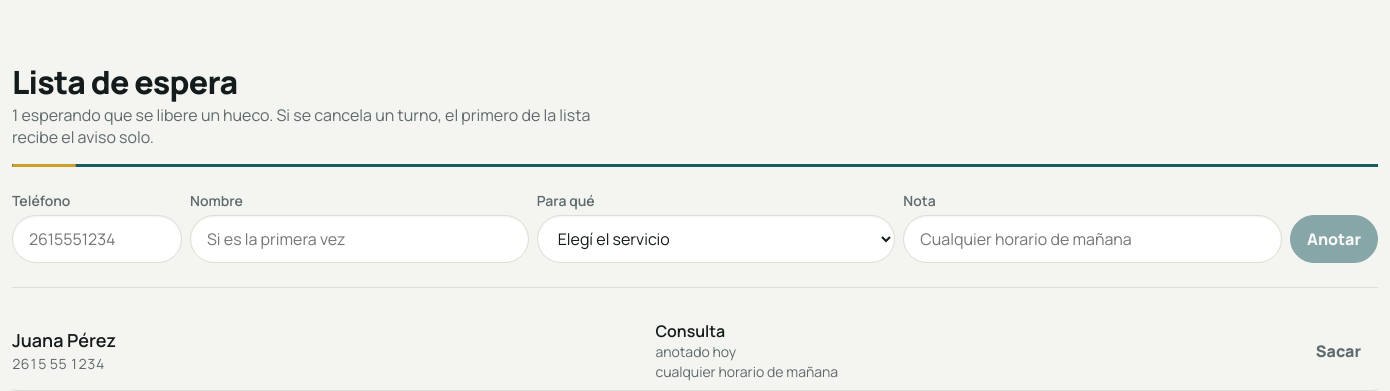
Test: lista de espera › si el borrado falla, la persona vuelve a la lista y se explica
(page scrolled)
Click the button "Sacar" at (1338, 351), box 1299,327 -> 1378,375
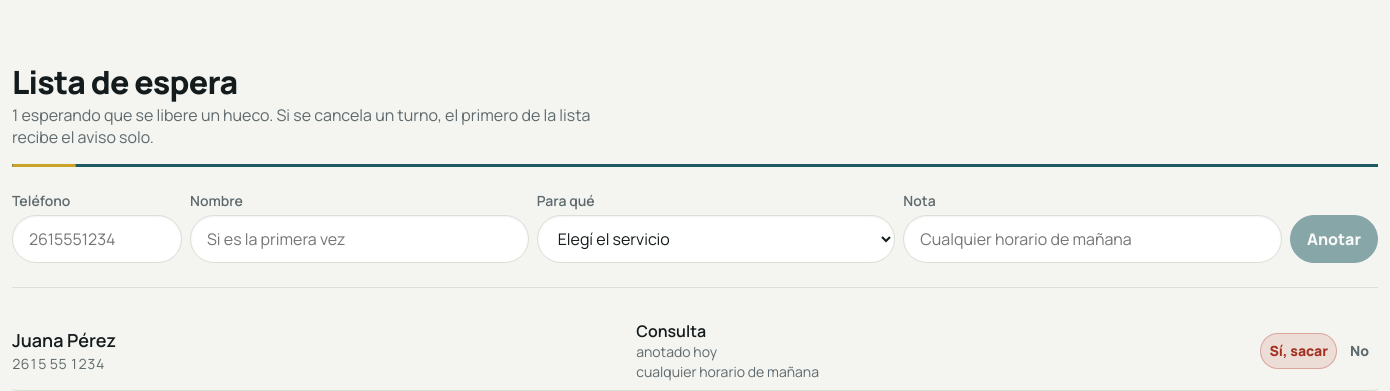
Click the button "Sí, sacar" at (1299, 351), box 1260,333 -> 1337,369
(page scrolled)
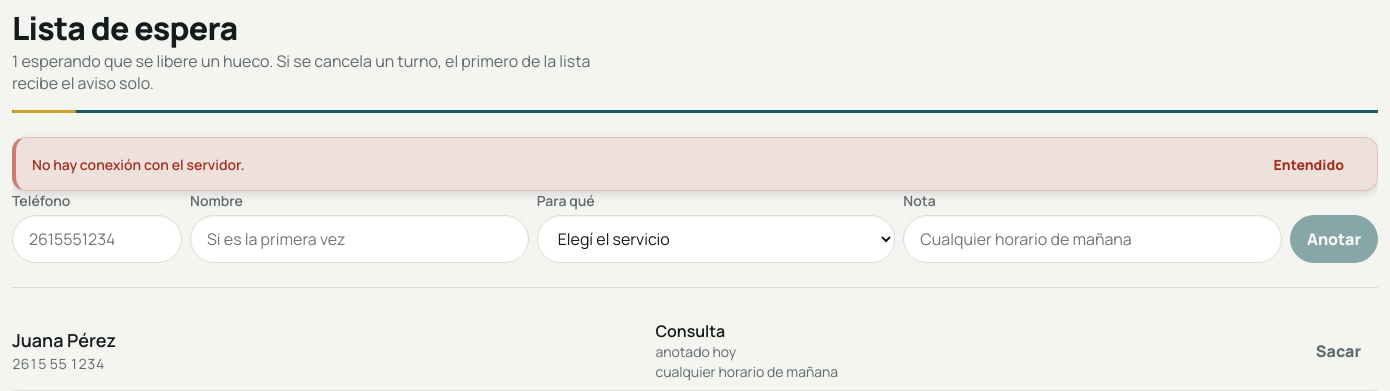
Expected: the text "Juana Pérez" is shown, 12,328 -> 116,352
Now the text "No hay conexión con el servidor." is shown, box 32,154 -> 244,174
